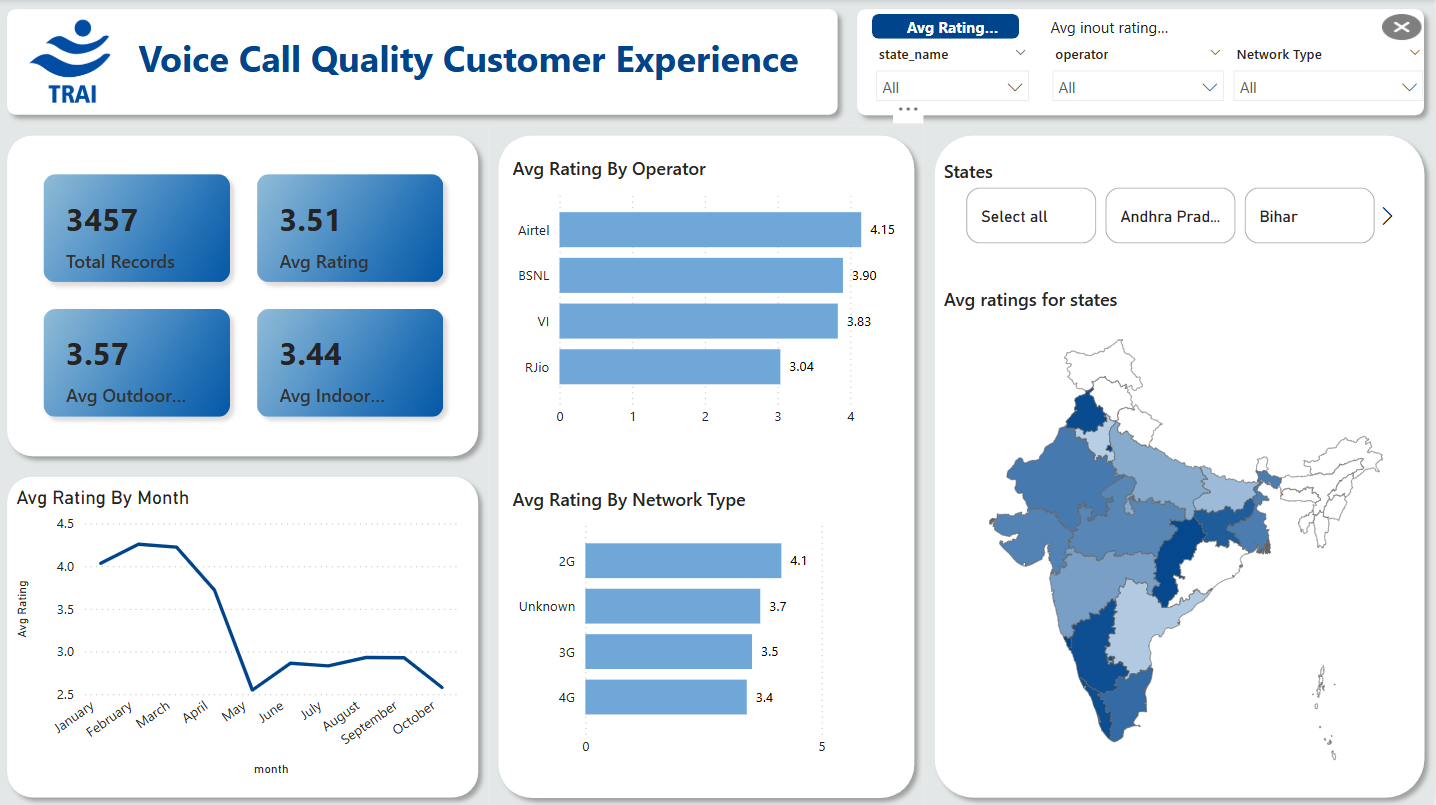

This screenshot's page, from the dashboard's own definition file:
{"tool":"powerbi","page":{"name":"Avg Rating Overview","canvas":[1280,720],"ordinal":0},"visuals":[{"type":"shape","box":[0,416.2,437.9,304],"z":0},{"type":"shape","box":[0,112.2,437.9,304],"z":1000},{"type":"shape","box":[757.5,0,522.8,112.5],"z":2000},{"type":"shape","box":[826.1,112.5,454.2,607.9],"z":3000},{"type":"shape","box":[0,0,757.6,112.2],"z":4000},{"type":"shape","box":[437.9,112.2,388.5,608],"z":5000},{"type":"image","box":[15.7,13.3,98.9,84.5],"z":6000},{"type":"textbox","box":[114.6,25.3,618.9,72.4],"z":7000},{"type":"shapeMap","title":"Avg ratings for states","fields":{"Category":["voicequality.state_name"],"Value":["voicequality.Avg Rating"]},"box":[838.5,255.8,441.6,447.6],"z":8000},{"type":"slicer","fields":{"Values":["voicequality.state_name"]},"box":[772.6,35.7,156.4,61.7],"z":9000},{"type":"slicer","fields":{"Values":["voicequality.operator"]},"box":[929,35.7,172.9,79.6],"z":10000},{"type":"slicer","fields":{"Values":["voicequality.network_type"]},"box":[1090.9,35.7,189.4,79.6],"z":11000},{"type":"cardVisual","fields":{"Data":["voicequality.total records","voicequality.Avg Rating","voicequality.Avg Outdoor Rating","voicequality.Avg Indoor Rating"]},"box":[24.1,138.7,390.9,250.9],"z":12000},{"type":"advancedSlicerVisual","fields":{"Values":["voicequality.state_name"]},"box":[838.5,141.2,415,82],"z":13000},{"type":"lineChart","title":"Avg Rating By Month","fields":{"Y":["voicequality.Avg Rating"],"Category":["voicequality.month"]},"box":[12.1,434.3,403,263],"z":14000},{"type":"barChart","title":"Avg Rating By Operator","fields":{"Category":["voicequality.operator"],"Y":["Avg(voicequality.rating)"]},"box":[453.6,138.7,357.1,250.9],"z":15000},{"type":"barChart","title":"Avg Rating By Network Type","fields":{"Category":["voicequality.network_type"],"Y":["voicequality.Avg Rating"]},"box":[453.6,434.3,357.1,249.7],"z":16000},{"type":"pageNavigator","box":[779.4,13.3,273.9,22.9],"z":17000},{"type":"actionButton","box":[1233,13.3,35,22.9],"z":18000}]}

Visuals, with their boxes on the page's 1280x720 design canvas (x1, y1, x2, y2). These are canvas units, not pixel positions in the 1436x805 screenshot, which may show the page scaled, cropped or inside an application window:
shape: (x1=0, y1=416, x2=438, y2=720)
shape: (x1=0, y1=112, x2=438, y2=416)
shape: (x1=758, y1=0, x2=1280, y2=112)
shape: (x1=826, y1=112, x2=1280, y2=720)
shape: (x1=0, y1=0, x2=758, y2=112)
shape: (x1=438, y1=112, x2=826, y2=720)
image: (x1=16, y1=13, x2=115, y2=98)
textbox: (x1=115, y1=25, x2=734, y2=98)
"Avg ratings for states" shapeMap: (x1=838, y1=256, x2=1280, y2=703)
slicer - voicequality.state_name: (x1=773, y1=36, x2=929, y2=97)
slicer - voicequality.operator: (x1=929, y1=36, x2=1102, y2=115)
slicer - voicequality.network_type: (x1=1091, y1=36, x2=1280, y2=115)
cardVisual - voicequality.total records x voicequality.Avg Rating: (x1=24, y1=139, x2=415, y2=390)
advancedSlicerVisual - voicequality.state_name: (x1=838, y1=141, x2=1254, y2=223)
"Avg Rating By Month" lineChart: (x1=12, y1=434, x2=415, y2=697)
"Avg Rating By Operator" barChart: (x1=454, y1=139, x2=811, y2=390)
"Avg Rating By Network Type" barChart: (x1=454, y1=434, x2=811, y2=684)
pageNavigator: (x1=779, y1=13, x2=1053, y2=36)
actionButton: (x1=1233, y1=13, x2=1268, y2=36)
